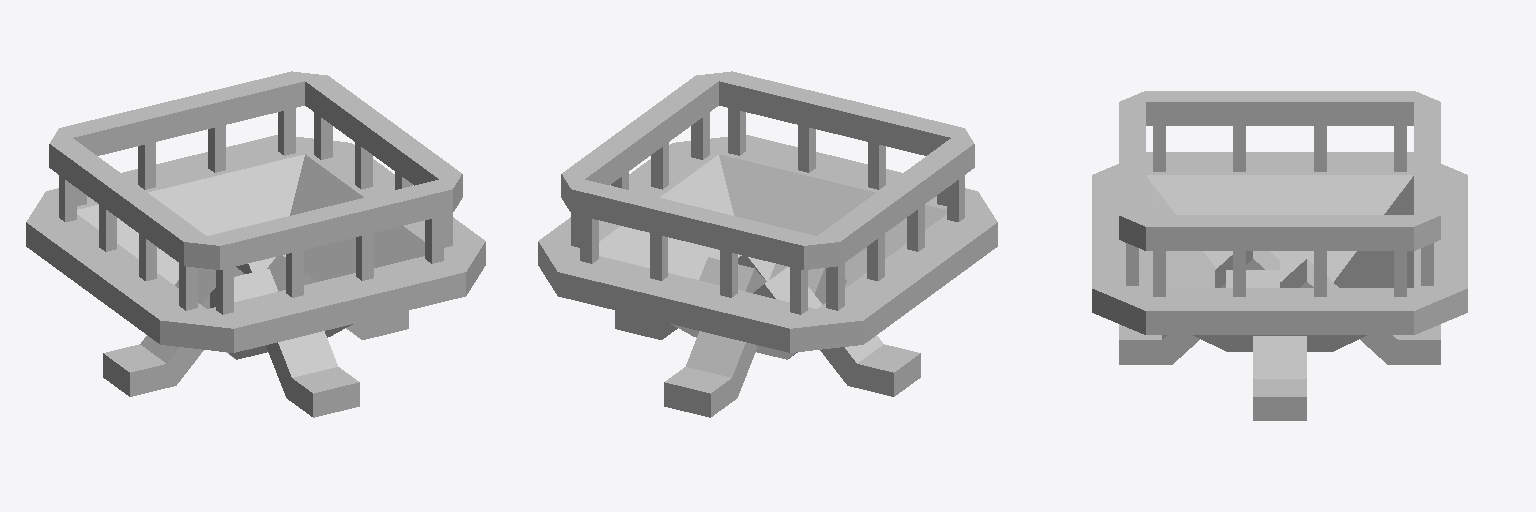
Rendered from brazier_ground.obj.
3 renders of one model, left to right at view 1: azimuth 30°, elevation 25°; view 2: azimuth 150°, elevation 25°; view 3: azimuth 270°, elevation 25°, orthographic.
Parts seen in each view (by area): view 1: BOWL_Cube.001, GRATING_Cube.006, FEET_Cube.002, COAL_Cube; view 2: BOWL_Cube.001, GRATING_Cube.006, FEET_Cube.002, COAL_Cube; view 3: BOWL_Cube.001, GRATING_Cube.006, FEET_Cube.002, COAL_Cube.
Part boxes in pixels (x1,y1,x2,y2): BOWL_Cube.001: (26, 135, 485, 359); GRATING_Cube.006: (49, 71, 462, 314); FEET_Cube.002: (103, 310, 408, 417); COAL_Cube: (175, 254, 316, 308); BOWL_Cube.001: (538, 135, 997, 359); GRATING_Cube.006: (561, 71, 974, 314); FEET_Cube.002: (615, 310, 920, 417); COAL_Cube: (699, 255, 846, 308); BOWL_Cube.001: (1092, 152, 1467, 351); GRATING_Cube.006: (1119, 91, 1440, 296); FEET_Cube.002: (1119, 324, 1440, 420); COAL_Cube: (1215, 251, 1338, 287).
Size of the model in its own units: 0.875 by 0.5 by 0.875.